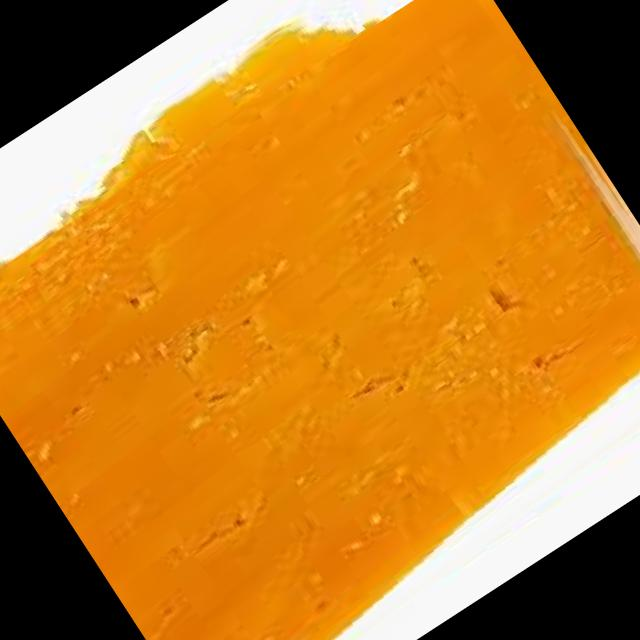Organic: (0, 0, 640, 640), (31, 0, 365, 226)
